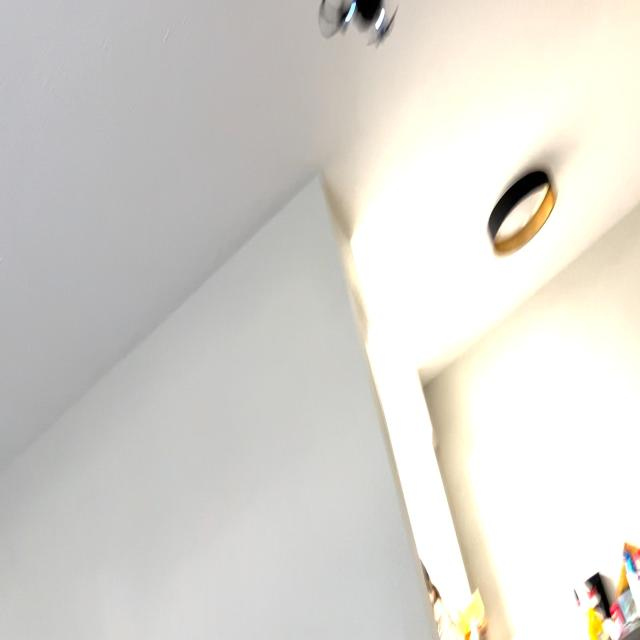drone: (312, 0, 407, 57)
